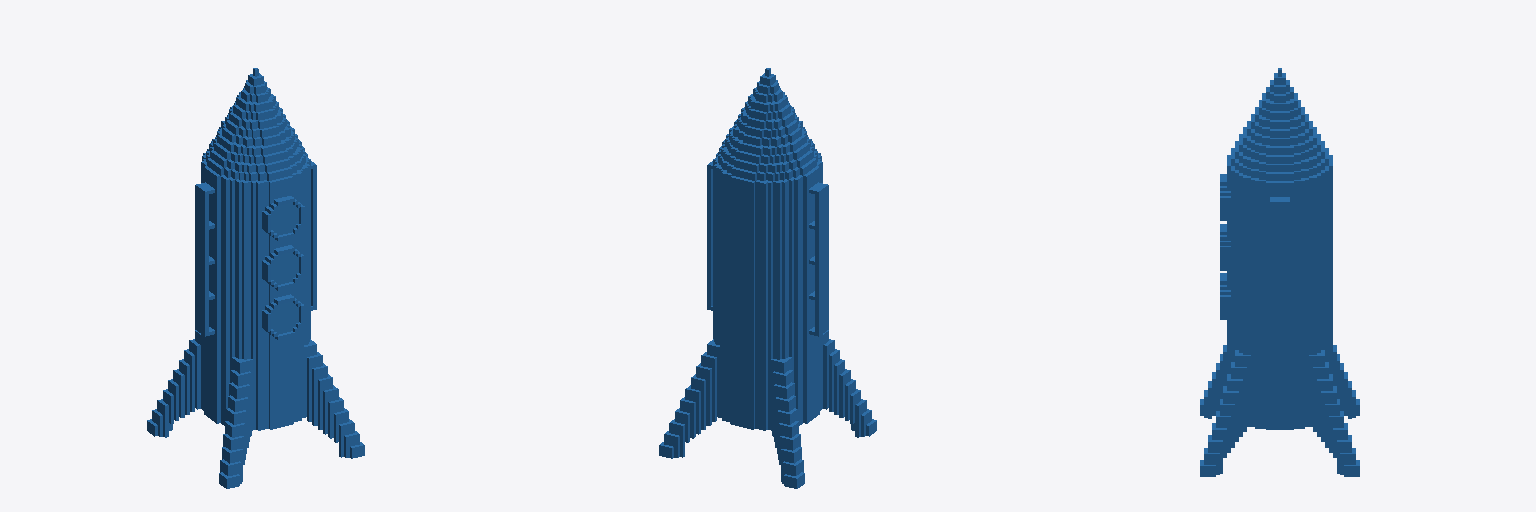
3 views of the same model, side by side, from view 1: azimuth 30°, elevation 25°; view 2: azimuth 150°, elevation 25°; view 3: azimuth 270°, elevation 25° (orthographic).
Parts seen in each view (by area): view 1: object 1; view 2: object 1; view 3: object 1.
Part boxes in pixels (x1,y1,x2,y2): object 1: (147,68,364,488); object 1: (659,68,876,488); object 1: (1200,68,1359,476).
Size of the model in its own units: 4.1 by 10.6 by 4.1.
Materials: 1 (1 with a texture image).